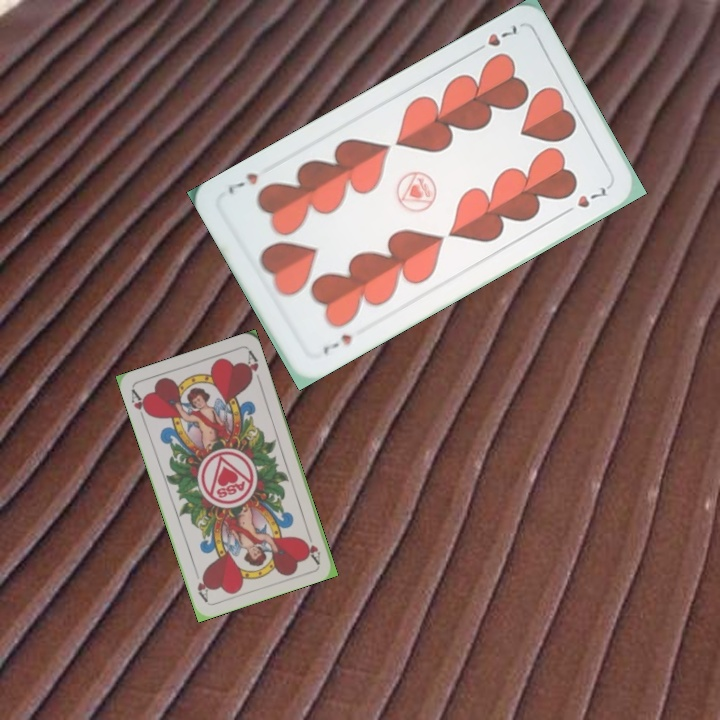H7: (468, 20, 522, 56), (318, 329, 355, 357)
HA: (127, 385, 152, 425), (301, 526, 323, 566)
